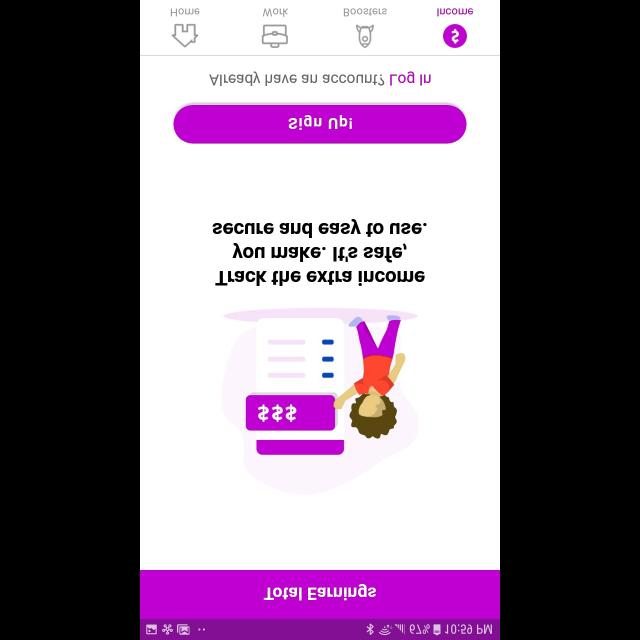icon: (172, 24, 198, 48), (262, 24, 288, 48), (443, 24, 467, 48)
image: (221, 307, 419, 495), (356, 24, 374, 48)
text: (213, 218, 427, 286), (209, 70, 431, 86), (264, 584, 376, 600), (344, 8, 386, 16), (437, 8, 473, 16), (263, 8, 289, 18), (172, 8, 200, 16)
textbutton: (174, 105, 466, 144)
uppertaskbar: (140, 618, 500, 640)
